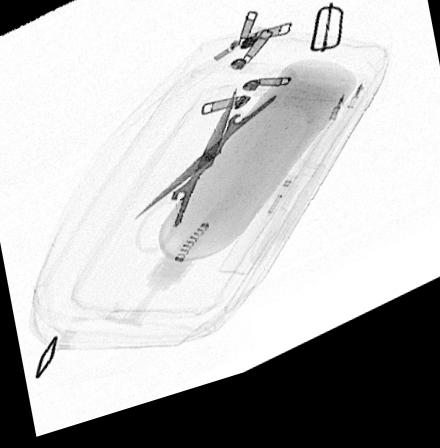Scissors: (132, 84, 294, 263)
